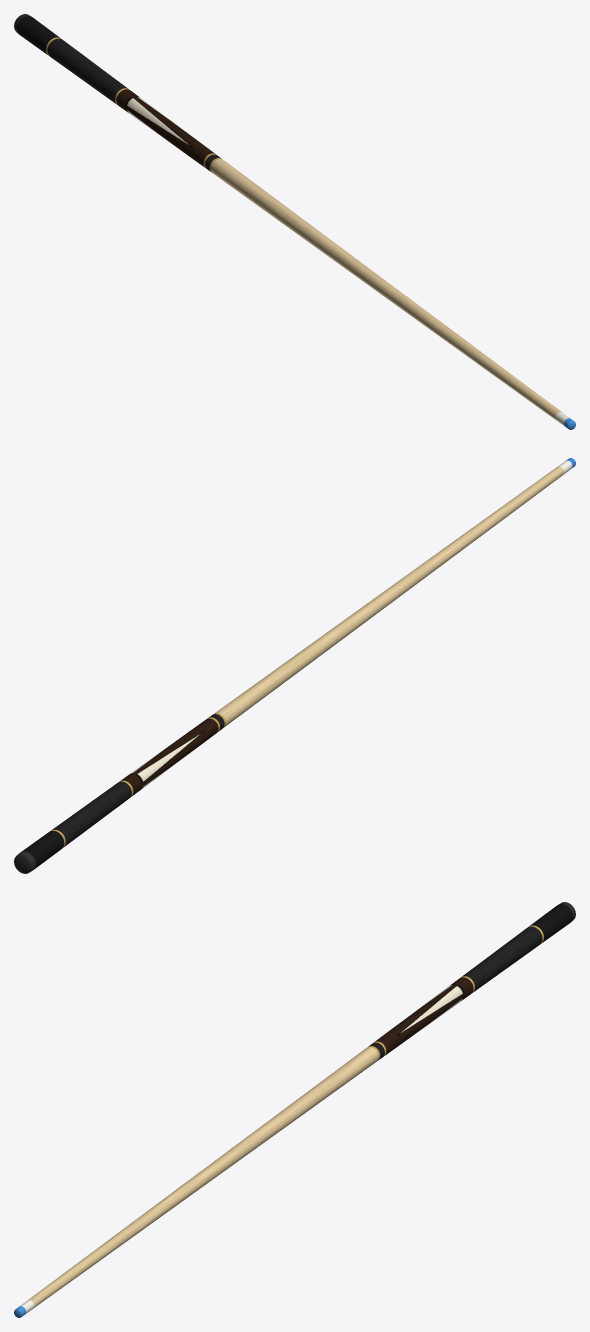
Rendered from cue.glb.
3 views of the same model, one above another, from view 1: azimuth 30°, elevation 25°; view 2: azimuth 150°, elevation 25°; view 3: azimuth 330°, elevation 25° (orthographic).
Parts seen in each view (by area): view 1: CueShaft, CueForearm, CueWrap, CueButt; view 2: CueShaft, CueForearm, CueWrap, CueButt; view 3: CueShaft, CueForearm, CueWrap, CueButt.
Boxes of the visible parts, x1,y1,x2,y2 form: CueShaft: [211, 159, 561, 420]; CueForearm: [116, 89, 214, 167]; CueWrap: [47, 38, 127, 104]; CueButt: [16, 16, 59, 54]; CueShaft: [215, 466, 564, 727]; CueForearm: [120, 718, 218, 796]; CueWrap: [51, 781, 131, 846]; CueButt: [21, 831, 64, 869]; CueShaft: [28, 1047, 378, 1308]; CueForearm: [375, 977, 473, 1055]; CueWrap: [462, 926, 542, 992]; CueButt: [530, 904, 573, 942].
Bounding box in the file's own units: 0.029 × 0.029 × 1.45.
9 materials, 3 textured.
